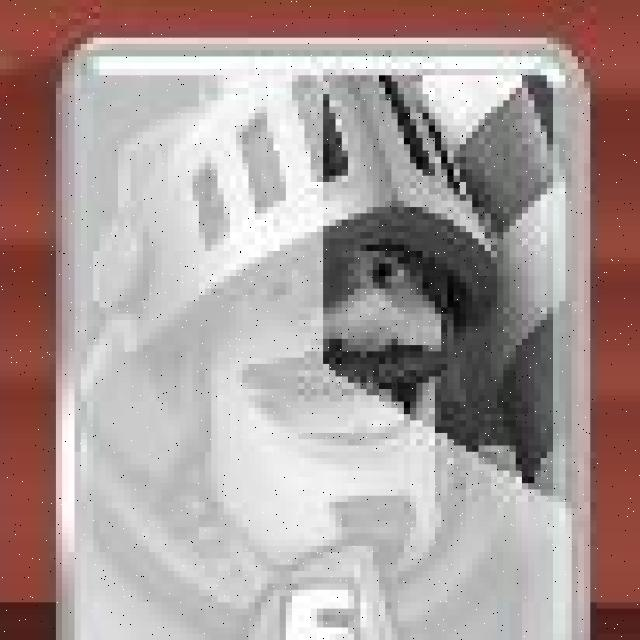Prince: (56, 35, 598, 640)
